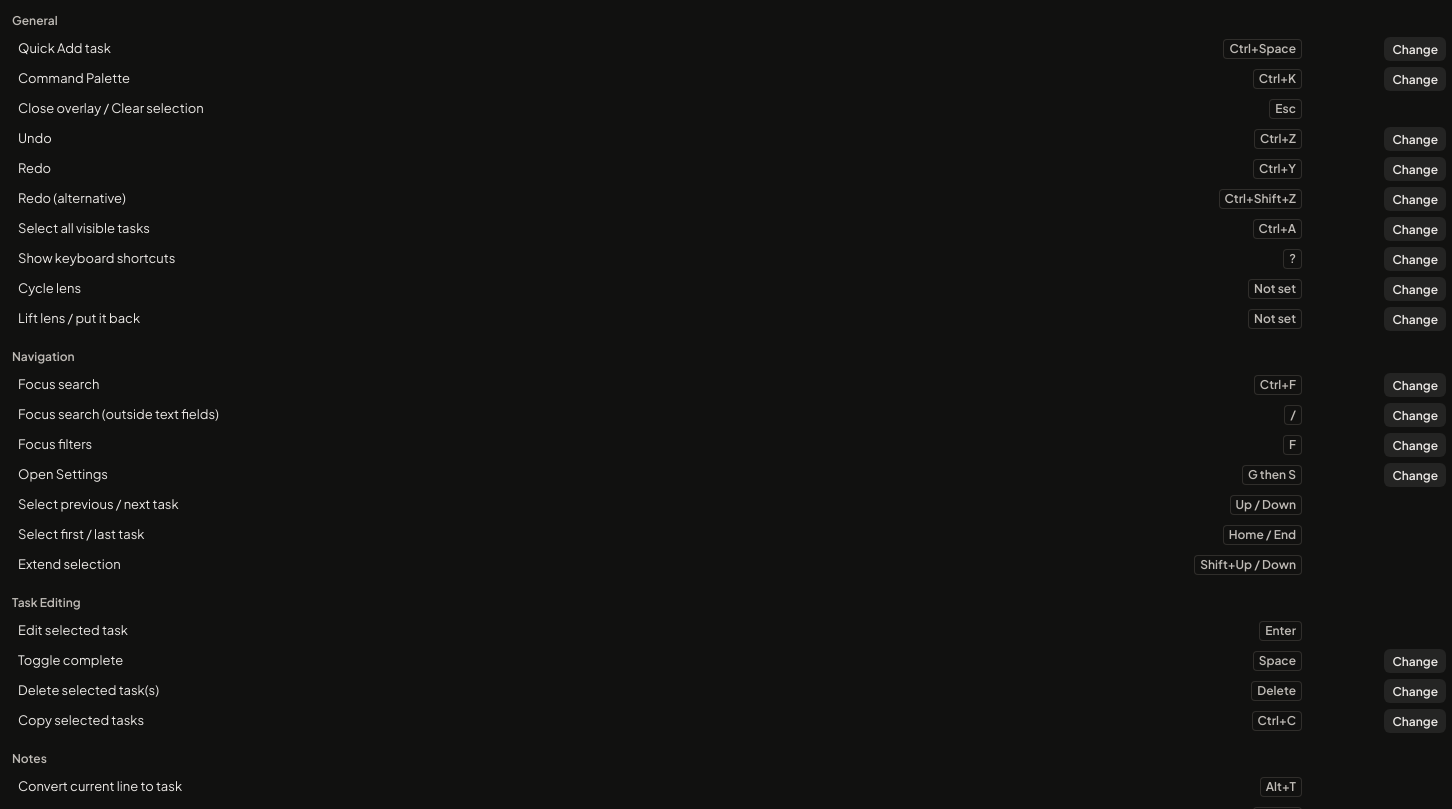
Settings › Keyboard shortcuts editor › focus is back on Change in the same commit that shows the saved keys (not in a later effect)
Click the button with aria-label "Change keys for Command Palette" at (1415, 79), box [1384,67,1446,91]
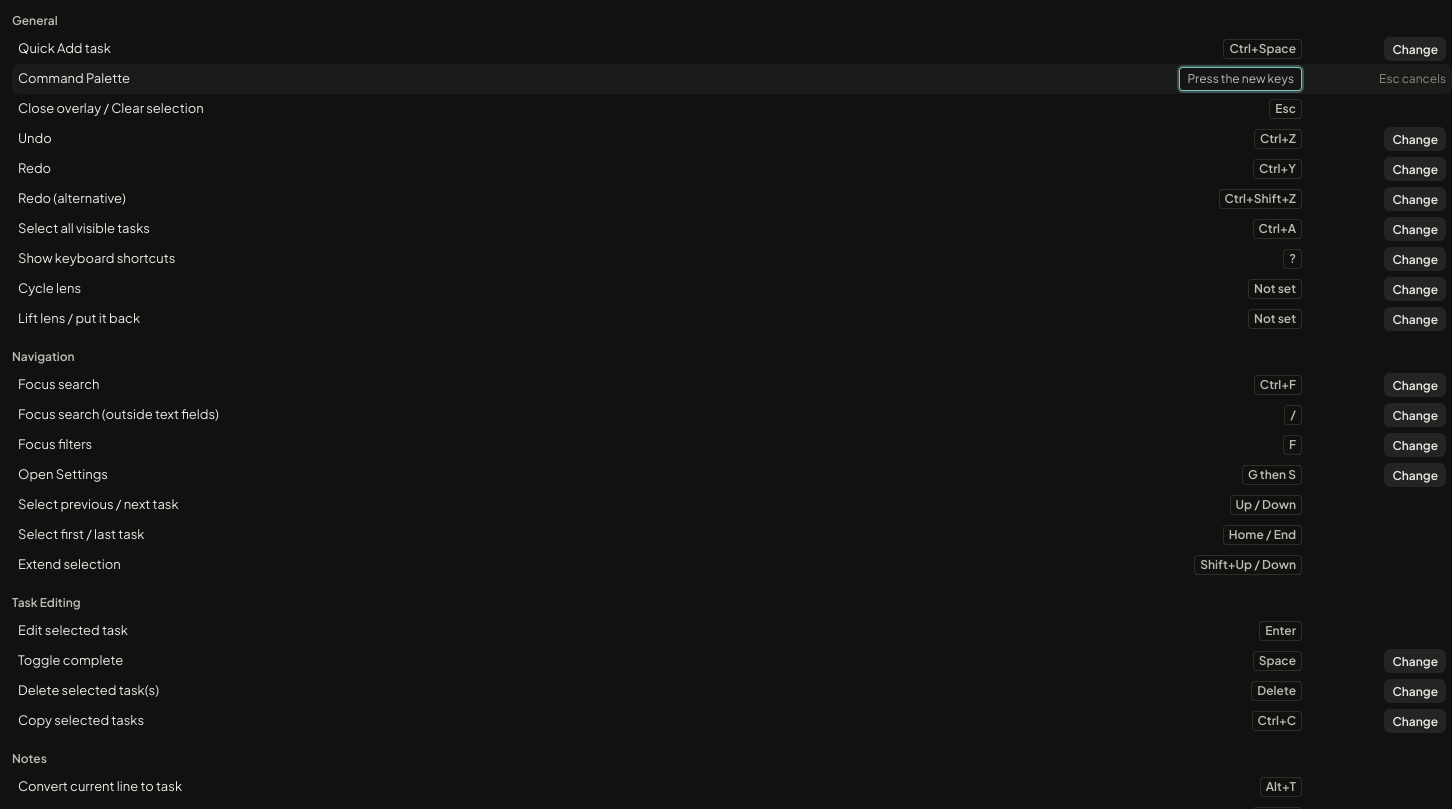
Press P in the field named "New keys for Command Palette", box [1179,67,1302,91]
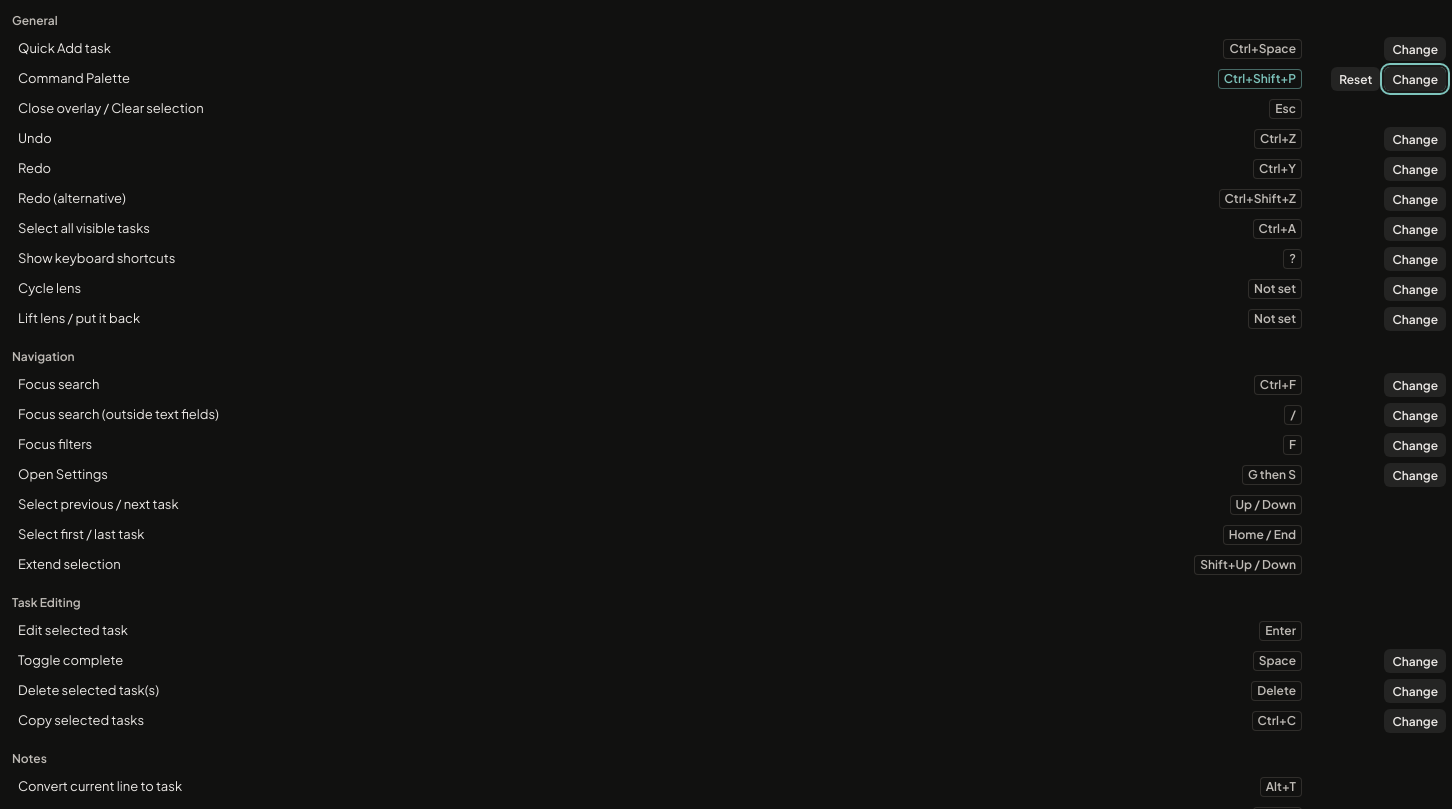
Expected: the text "Ctrl+Shift+P" is shown, [1218,69,1302,89]
